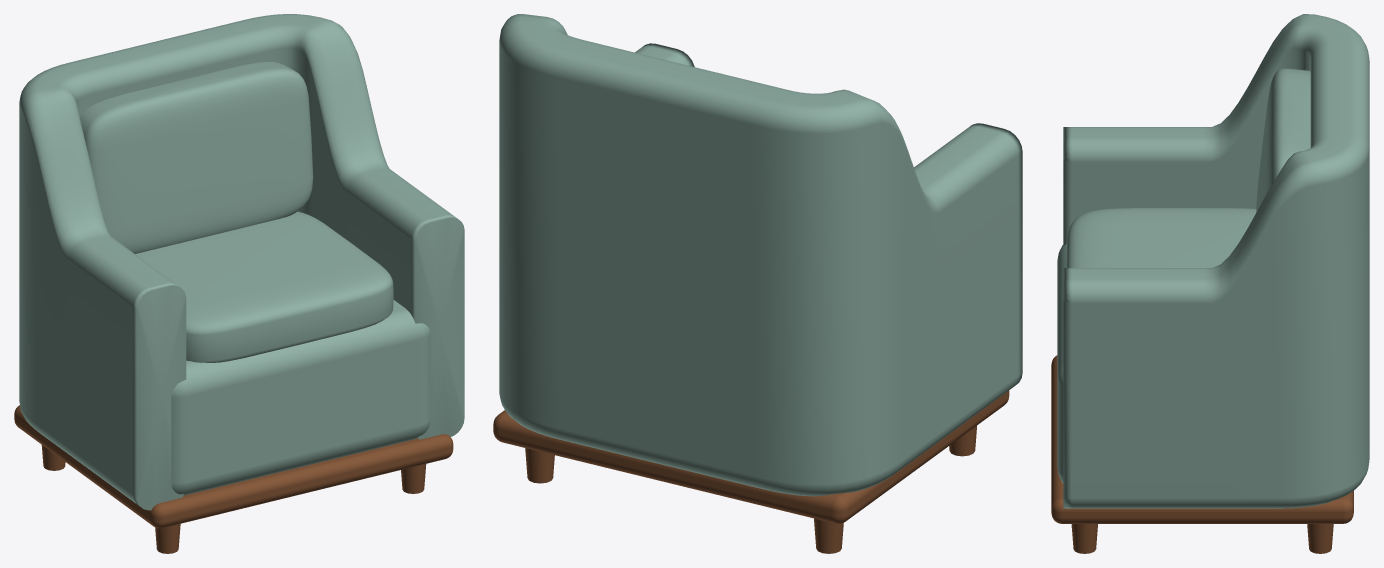
The model's file is armchair.glb.
3 renders of one model, left to right at view 1: azimuth 30°, elevation 25°; view 2: azimuth 150°, elevation 25°; view 3: azimuth 270°, elevation 25°, orthographic. The views are drawn at different scales.
Visible parts, largest first — view 1: continuous-arm-and-back-shell, back-cushion-1, upholstered-seat-deck, seat-cushion-1, underframe, foot--1-1, foot-1-1; view 2: continuous-arm-and-back-shell, underframe, foot--1--1, foot-1--1; view 3: continuous-arm-and-back-shell, seat-cushion-1, underframe, back-cushion-1, upholstered-seat-deck, foot-1--1, foot-1-1.
Boxes of the visible parts, x1,y1,x2,y2 form: continuous-arm-and-back-shell: (19, 14, 464, 510); back-cushion-1: (80, 61, 313, 253); upholstered-seat-deck: (171, 300, 430, 495); seat-cushion-1: (135, 211, 393, 362); underframe: (14, 405, 453, 528); foot--1-1: (155, 524, 180, 553); foot-1-1: (401, 464, 426, 493); continuous-arm-and-back-shell: (499, 14, 1022, 496); underframe: (493, 390, 1009, 523); foot--1--1: (814, 518, 843, 553); foot-1--1: (525, 448, 554, 483); continuous-arm-and-back-shell: (1063, 14, 1369, 508); seat-cushion-1: (1066, 208, 1256, 267); underframe: (1051, 355, 1353, 523); back-cushion-1: (1256, 68, 1310, 212); upholstered-seat-deck: (1057, 244, 1066, 483); foot-1--1: (1307, 524, 1333, 553); foot-1-1: (1071, 524, 1097, 553).
Size of the model in its own units: 1 by 1.12 by 0.81.
